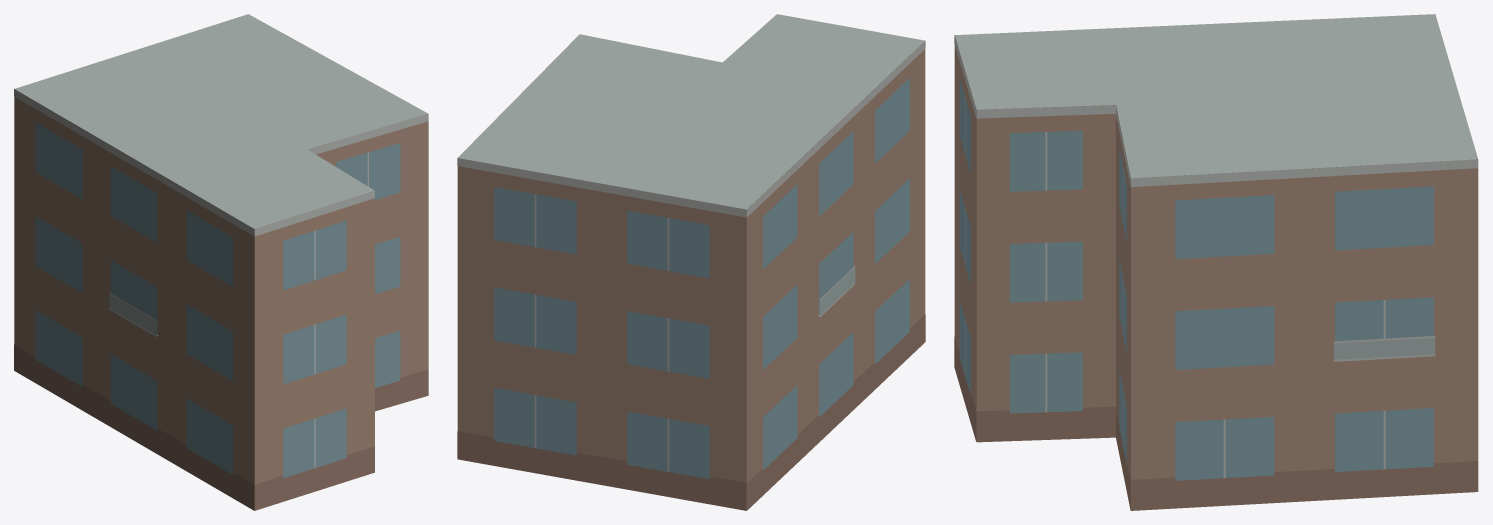
The model's file is survey-upis-32495451.glb.
3 renders of one model, left to right at view 1: azimuth 30°, elevation 25°; view 2: azimuth 150°, elevation 25°; view 3: azimuth 270°, elevation 25°, orthographic. The views are drawn at different scales.
Visible parts, largest first — view 1: survey-upis-32495451.tmp; view 2: survey-upis-32495451.tmp; view 3: survey-upis-32495451.tmp.
Boxes of the visible parts, bbox=[...] form: survey-upis-32495451.tmp: bbox=[14, 14, 428, 510]; survey-upis-32495451.tmp: bbox=[457, 14, 925, 510]; survey-upis-32495451.tmp: bbox=[954, 14, 1478, 510].
Bounding box in the file's own units: 9.71 × 9.15 × 13.07.
